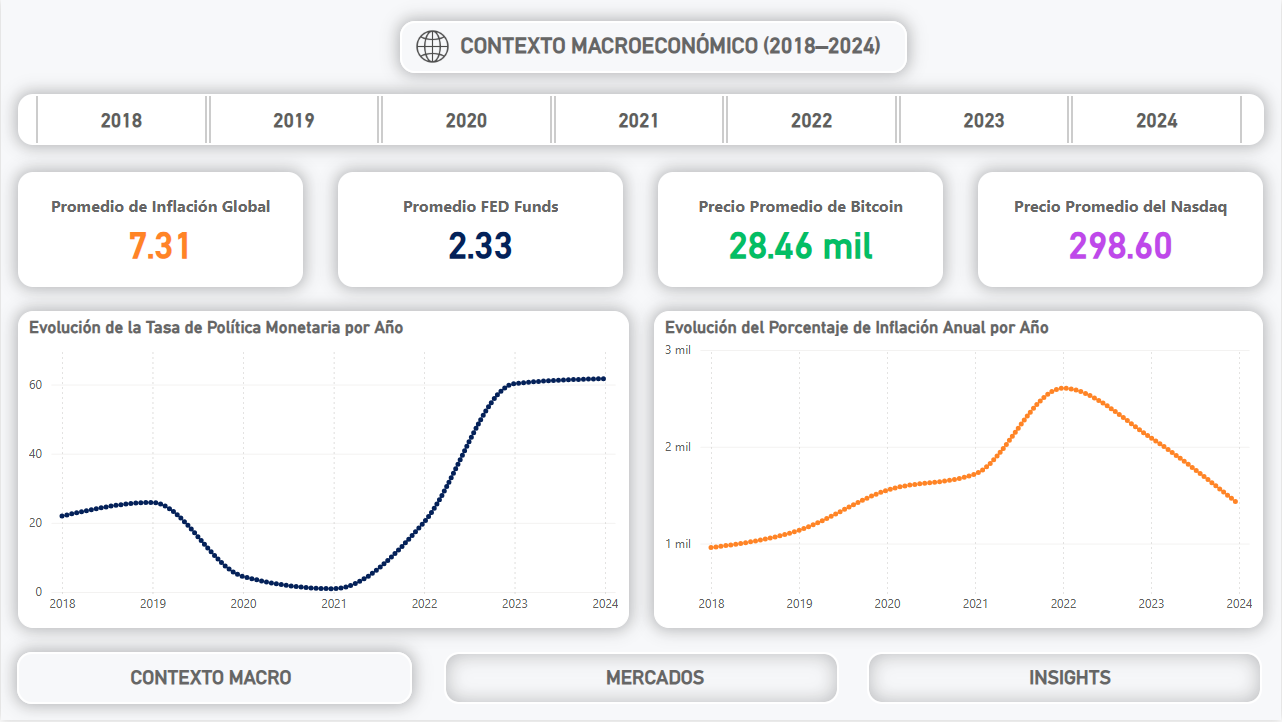

Layout of this report page (visuals, bound fields, positions):
{"tool":"powerbi","page":{"name":"Contexto macro","canvas":[1280,720],"ordinal":0},"visuals":[{"type":"textbox","box":[17,94,1246,51],"z":0,"group":"g1"},{"type":"textbox","box":[657,172,285,115],"z":0},{"type":"lineChart","fields":{"Y":["Sum(FEDFUNDS.PolicyRate)"],"Category":["FEDFUNDS.MonthStart.Variación.Jerarquía de fechas.Año"]},"box":[17,311,611,317],"z":1000},{"type":"textbox","box":[977,172,285,115],"z":2000},{"type":"lineChart","fields":{"Category":["WB_Inflation.Year.Variación.Jerarquía de fechas.Año"],"Y":["Sum(WB_Inflation.InflationPct)"]},"box":[653,311,609,317],"z":3000},{"type":"textbox","box":[443,652,395,52],"z":4000},{"type":"textbox","box":[337,172,285,115],"z":5000},{"type":"textbox","box":[17,172,285,115],"z":6000},{"type":"cardVisual","fields":{"Data":["Avg(BTC_USD.Price)"]},"box":[657,172,285,115],"z":7000},{"type":"textbox","box":[16,652,395,52],"z":8000},{"type":"textbox","box":[866,652,395,52],"z":9000},{"type":"textbox","box":[98,661,224,33],"z":10000},{"type":"cardVisual","fields":{"Data":["Avg(WB_Inflation.InflationPct)"]},"box":[26,172,267,115],"z":11000},{"type":"textbox","box":[542,661,224,33],"z":12000},{"type":"cardVisual","fields":{"Data":["Avg(FEDFUNDS.PolicyRate)"]},"box":[337,172,285,115],"z":13000},{"type":"actionButton","box":[443,652,395,49],"z":14000},{"type":"textbox","box":[957,661,224,33],"z":15000},{"type":"cardVisual","fields":{"Data":["Avg(QQQ_Price.Price)"]},"box":[977,172,285,115],"z":16000},{"type":"actionButton","box":[867,652,395,49],"z":17000},{"type":"group","id":"g1","title":"Grupo 4","box":[14,94,1249,51],"z":18000},{"type":"slicer","fields":{"Values":["FEDFUNDS.Date.Variación.Jerarquía de fechas.Año"]},"box":[14,94,1246,51],"z":19000,"group":"g1"},{"type":"textbox","box":[399,21,507,52],"z":19000},{"type":"image","box":[409,24,45,45],"z":19001}]}

Visuals, with their boxes in screenshot pixels (x1, y1, x2, y2), scaled from the page's 1280x720 canvas onto the 1282x722 screenshot:
textbox: [17, 94, 1265, 145]
textbox: [658, 172, 943, 288]
lineChart - Sum(FEDFUNDS.PolicyRate) x FEDFUNDS.MonthStart.Variación.Jerarquía de fechas.Año: [17, 312, 629, 630]
textbox: [979, 172, 1264, 288]
lineChart - WB_Inflation.Year.Variación.Jerarquía de fechas.Año x Sum(WB_Inflation.InflationPct): [654, 312, 1264, 630]
textbox: [444, 654, 839, 706]
textbox: [338, 172, 623, 288]
textbox: [17, 172, 302, 288]
cardVisual - Avg(BTC_USD.Price): [658, 172, 943, 288]
textbox: [16, 654, 412, 706]
textbox: [867, 654, 1263, 706]
textbox: [98, 663, 323, 696]
cardVisual - Avg(WB_Inflation.InflationPct): [26, 172, 293, 288]
textbox: [543, 663, 767, 696]
cardVisual - Avg(FEDFUNDS.PolicyRate): [338, 172, 623, 288]
actionButton: [444, 654, 839, 703]
textbox: [958, 663, 1183, 696]
cardVisual - Avg(QQQ_Price.Price): [979, 172, 1264, 288]
actionButton: [868, 654, 1264, 703]
"Grupo 4" group: [14, 94, 1265, 145]
slicer - FEDFUNDS.Date.Variación.Jerarquía de fechas.Año: [14, 94, 1262, 145]
textbox: [400, 21, 907, 73]
image: [410, 24, 455, 69]
